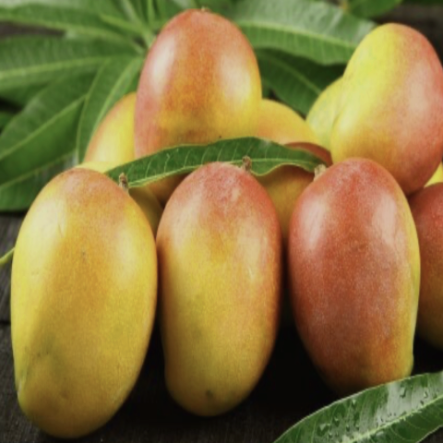mango: (5, 146, 165, 431), (279, 131, 432, 418), (151, 167, 296, 420), (123, 0, 277, 200)
